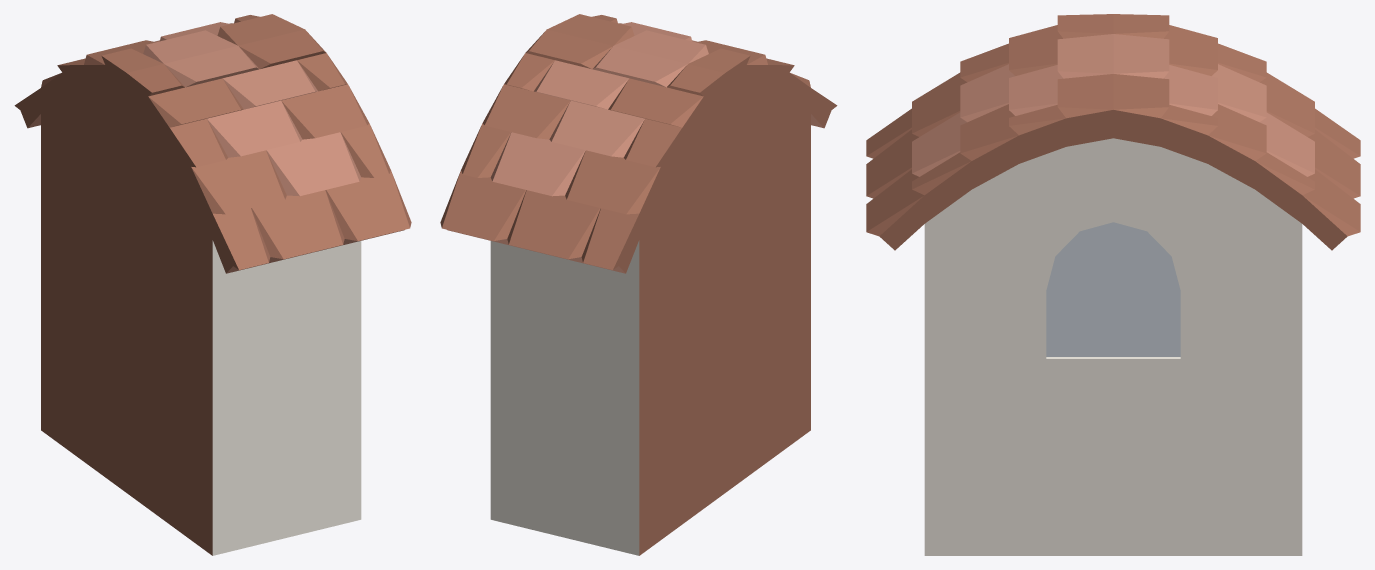
The model's file is object4_026-col.gltf.
The picture shows the model from 3 angles, left to right: view 1: azimuth 30°, elevation 25°; view 2: azimuth 150°, elevation 25°; view 3: azimuth 270°, elevation 25°; orthographic projection. The views are drawn at different scales.
Parts seen in each view (by area): view 1: object4.026-col; view 2: object4.026-col; view 3: object4.026-col.
Part boxes in pixels (left/top/right/bottom): object4.026-col: left=14, top=14, right=411, bottom=555; object4.026-col: left=440, top=14, right=837, bottom=555; object4.026-col: left=866, top=14, right=1360, bottom=555.
Bounding box in the file's own units: 1.2 × 2.7 × 2.62.
